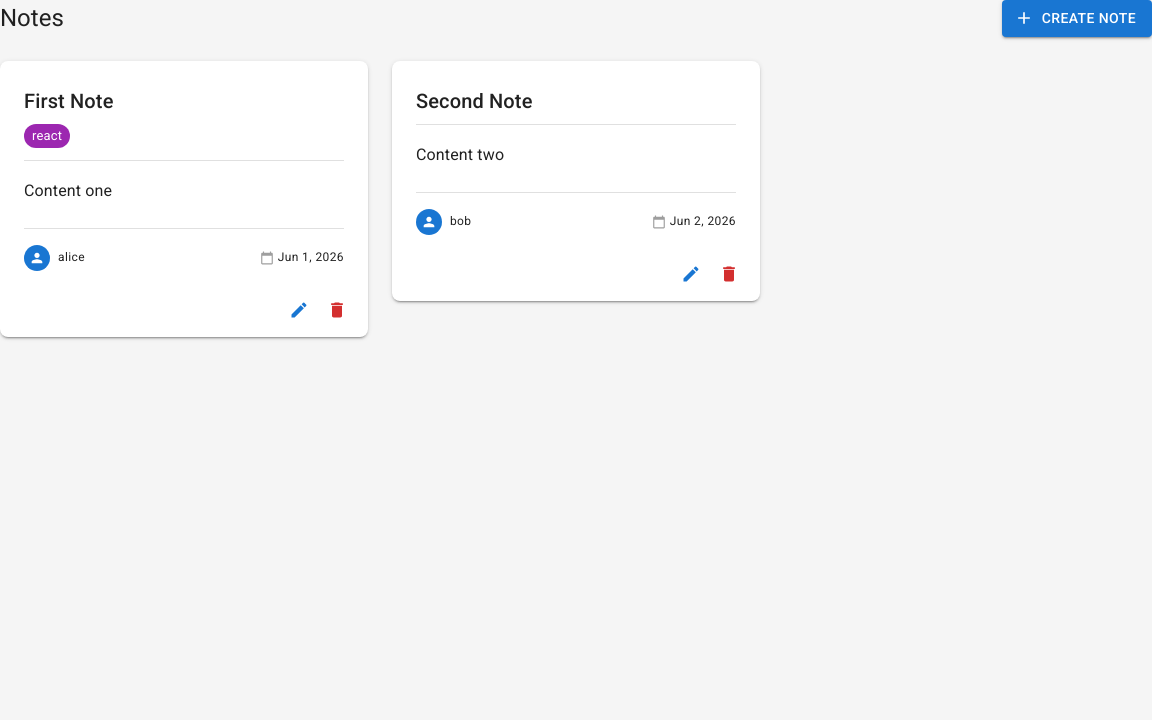
NoteCardGrid › saves an edited note and updates the grid
Check: the heading "First Note" is shown, box [24,88,114,112]
Step 1. Click the button named "Edit" below "alice" → [299, 310], box [284,295,314,325]
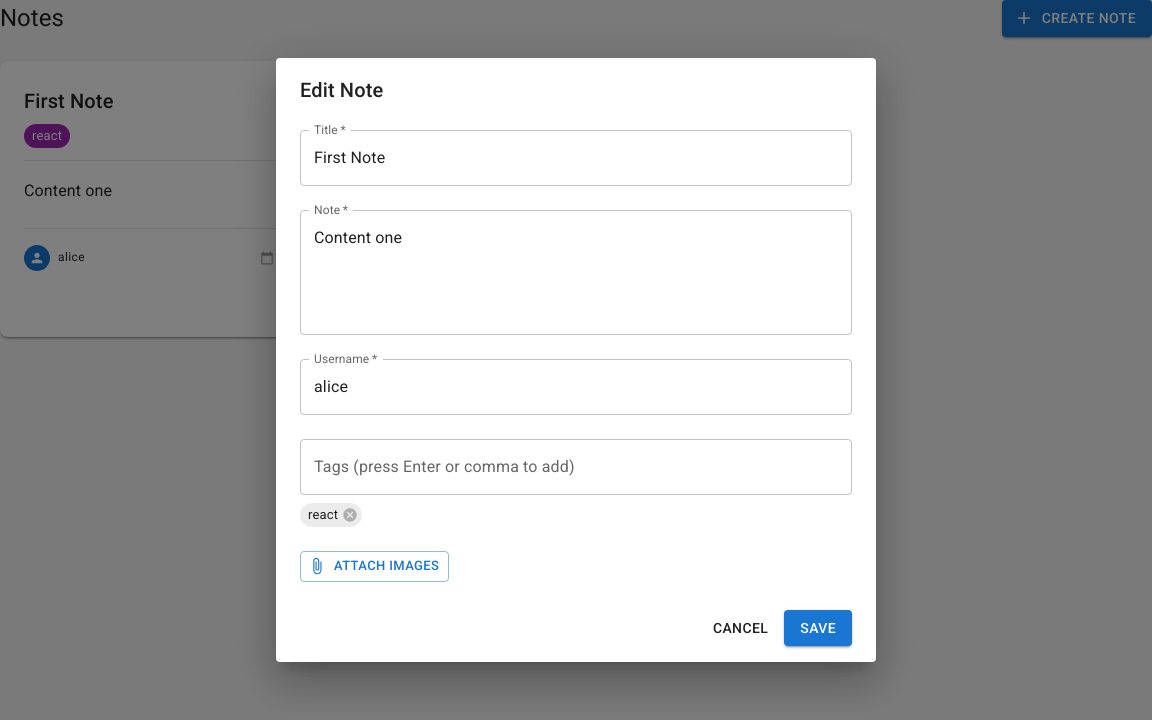
Step 2. Replace the text in the field showing "First Note" with "Updated Title" → [576, 158], box [300,130,852,186]
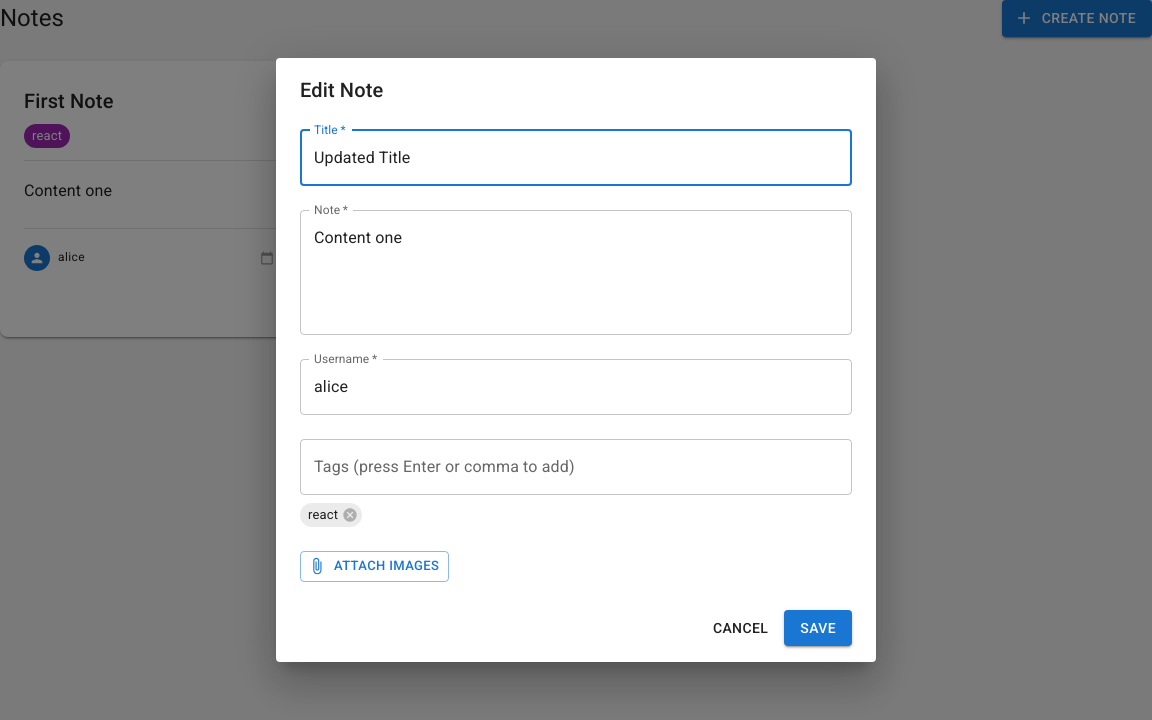
Step 3. Click the button "Save" → [818, 628], box [784,610,852,646]
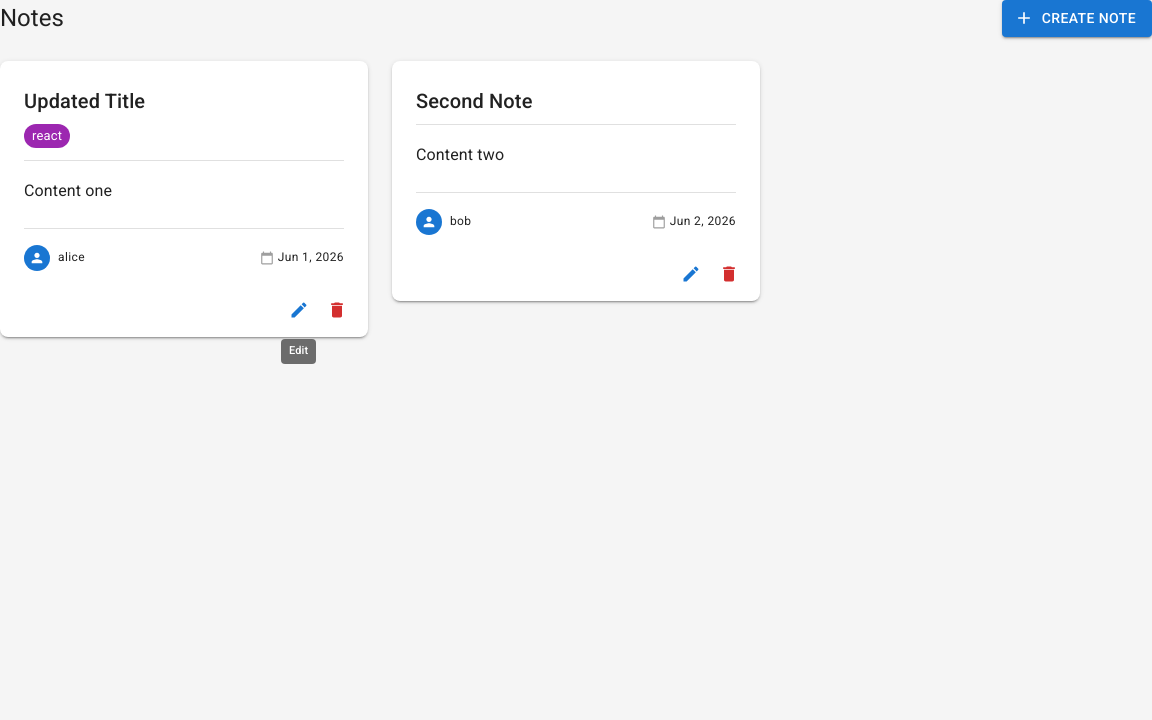
Check: the heading "Updated Title" is shown, box [24,88,145,112]
